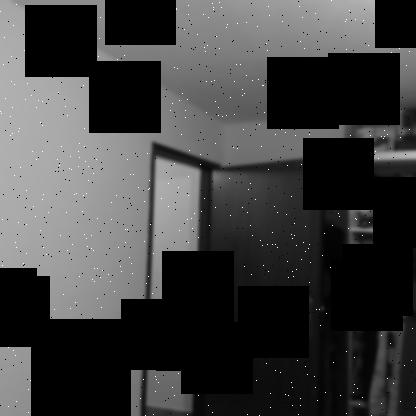Porte: (138, 140, 328, 416)
